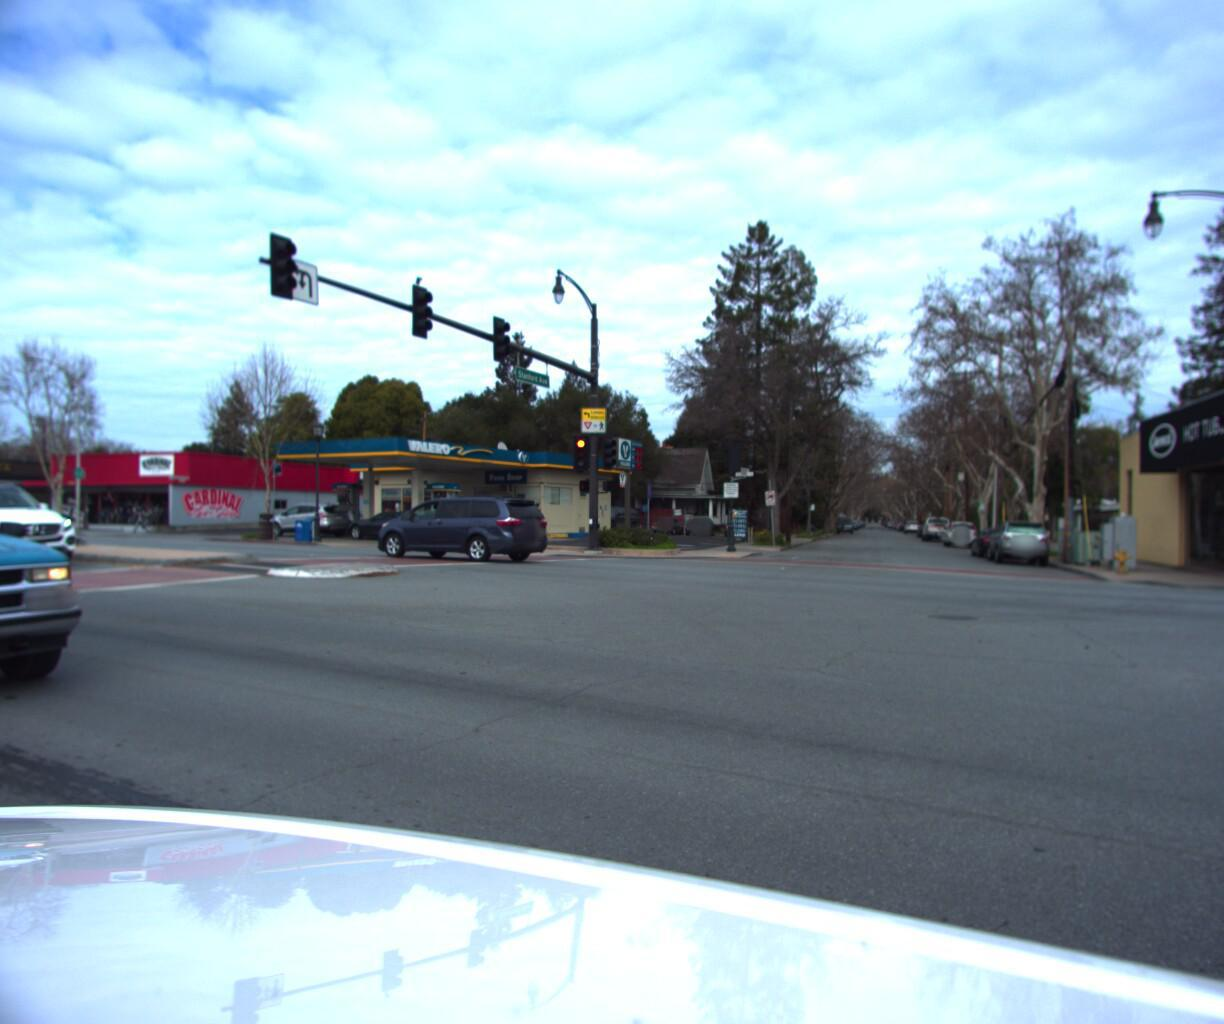car: (375, 495, 551, 564), (256, 503, 354, 540), (979, 516, 1048, 564), (336, 513, 442, 543), (964, 523, 1016, 557), (587, 510, 642, 536), (938, 519, 974, 546), (648, 516, 687, 537), (921, 514, 951, 540), (722, 515, 756, 536), (681, 516, 718, 535)
